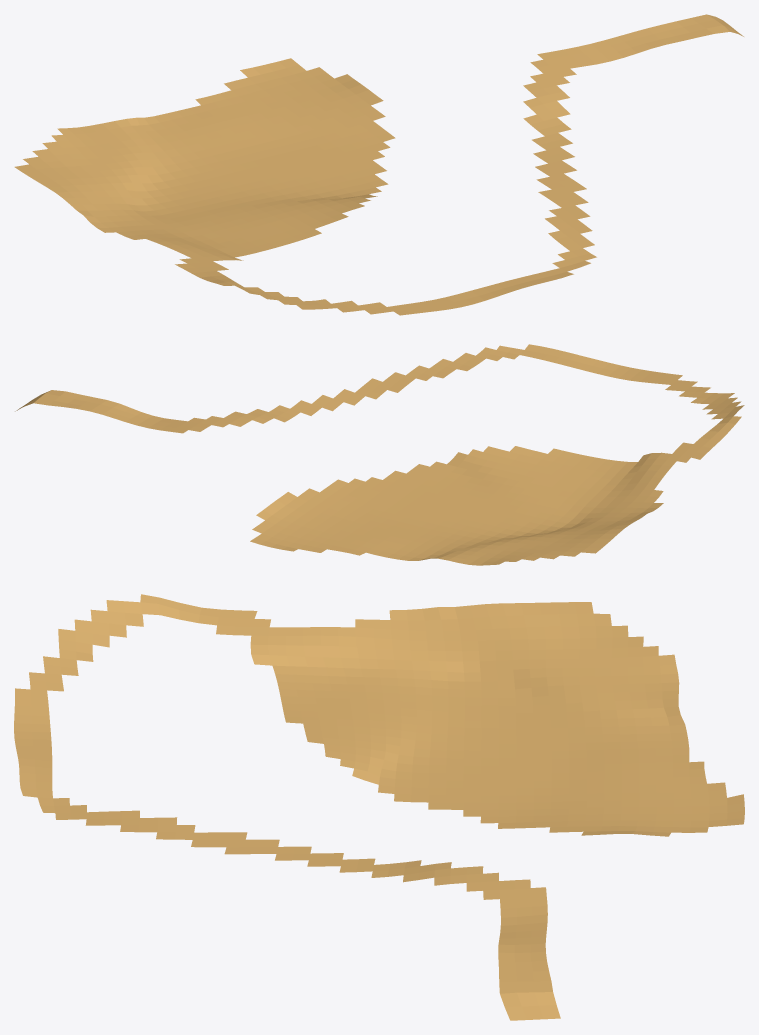
File: first_camp_PATHS.glb
The picture shows the model from 3 angles, top to bottom: view 1: azimuth 30°, elevation 25°; view 2: azimuth 150°, elevation 25°; view 3: azimuth 270°, elevation 25°; orthographic projection. The views are drawn at different scales.
Visible parts, largest first — view 1: Plane.001; view 2: Plane.001; view 3: Plane.001.
Boxes of the visible parts, box(x1,y1,x2,y2) form: Plane.001: box(14, 14, 743, 315); Plane.001: box(15, 344, 744, 565); Plane.001: box(14, 594, 744, 1020).
Size of the model in its own units: 41.89 by 2.57 by 32.28.
